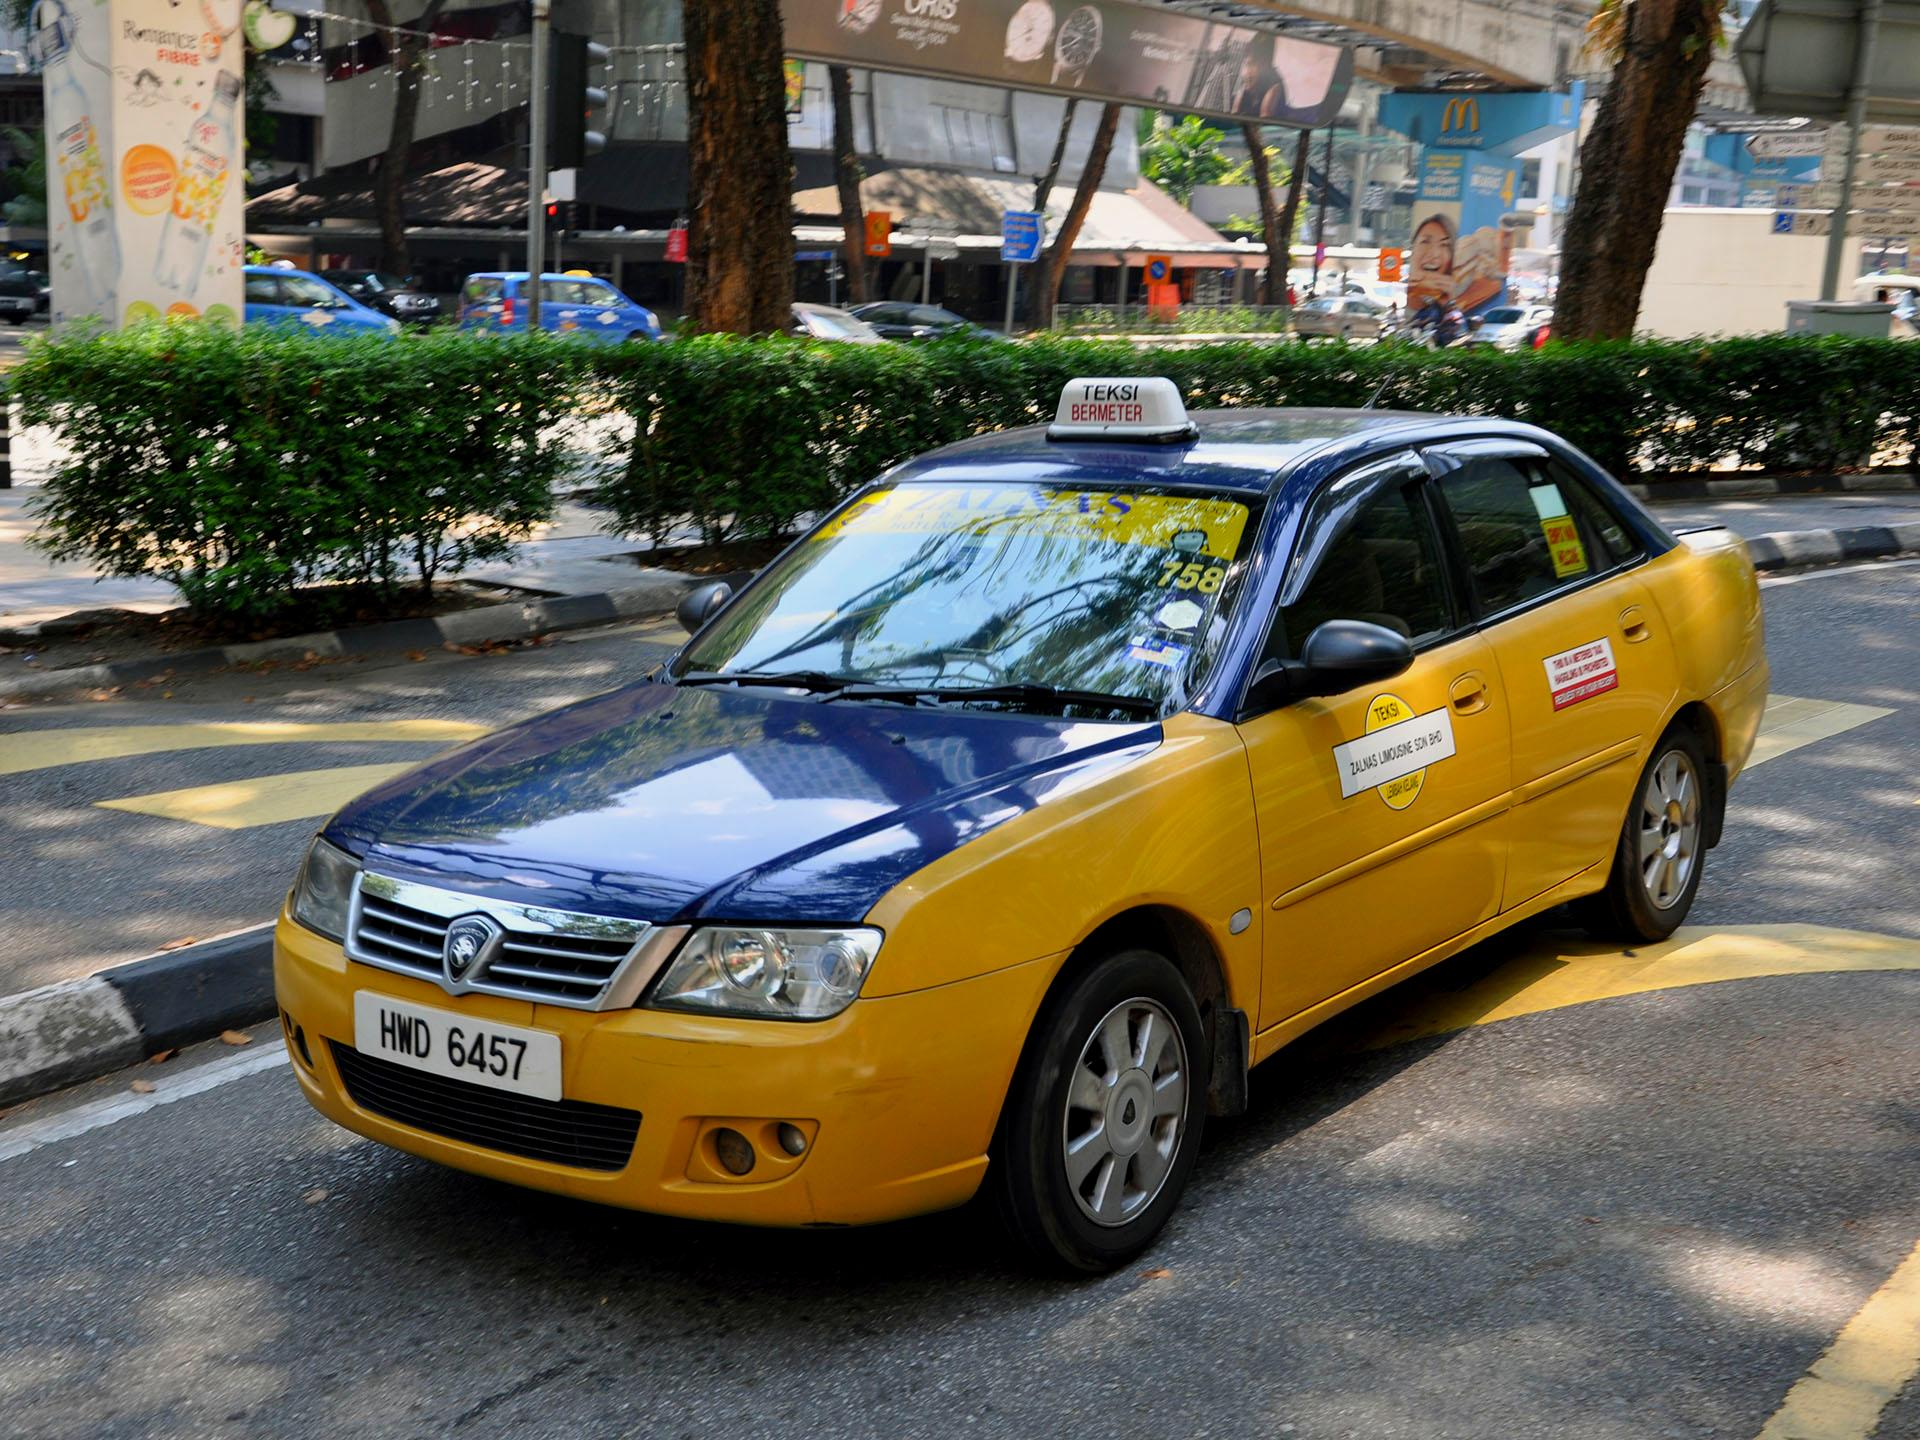License Plate: (347, 994, 561, 1105)
